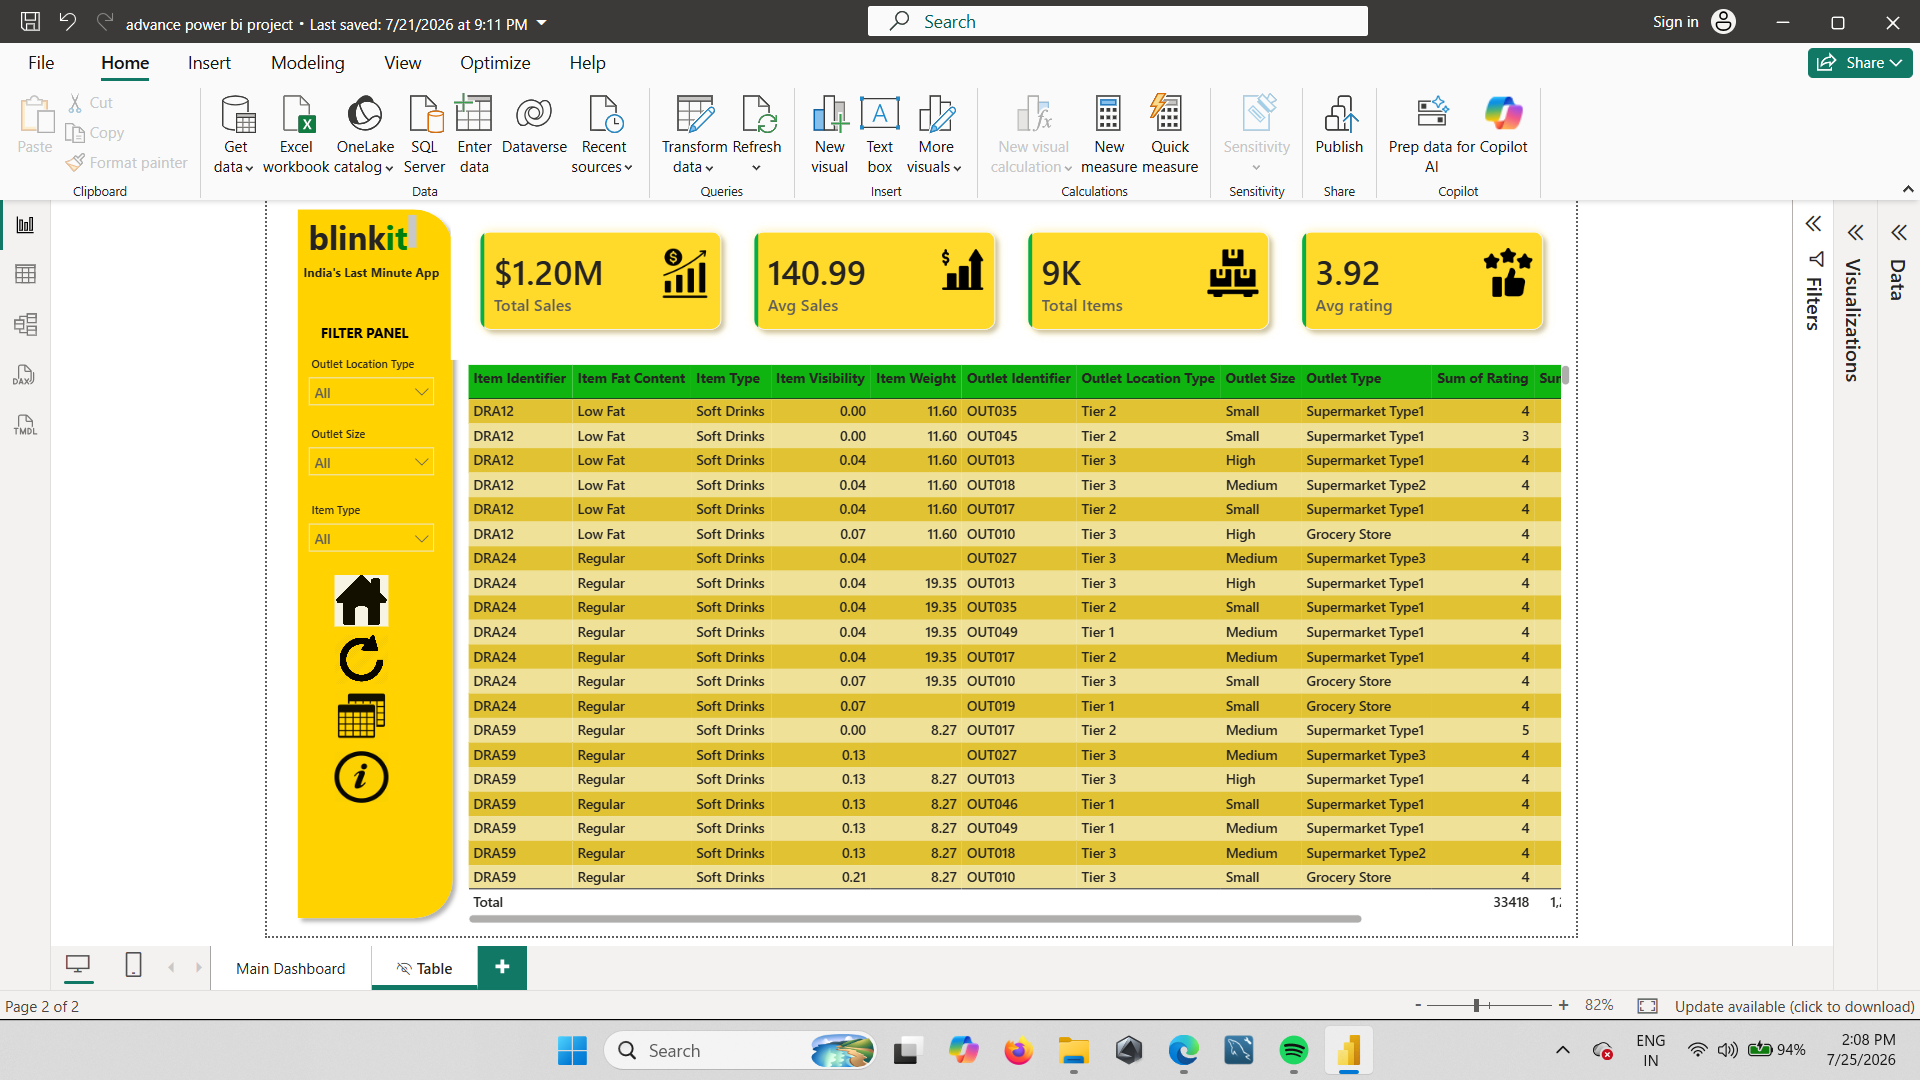

What the dashboard file says about the page in this screenshot:
{"tool":"powerbi","page":{"name":"Table","canvas":[1280,720],"ordinal":1},"visuals":[{"type":"shape","box":[20.8,0,170,711.7],"z":1},{"type":"textbox","box":[34.2,9.8,117.4,46.5],"z":2},{"type":"textbox","box":[30.6,56.3,143.1,28.1],"z":3},{"type":"slicer","fields":{"Values":["BlinkIT Grocery Data.Outlet Location Type"]},"box":[30.6,148,143.1,68.5],"z":4},{"type":"slicer","fields":{"Values":["BlinkIT Grocery Data.Outlet Size"]},"box":[30.6,216.4,143.1,68.5],"z":5},{"type":"slicer","fields":{"Values":["BlinkIT Grocery Data.Item Type"]},"box":[30.6,291,143.1,68.5],"z":6},{"type":"textbox","box":[34.2,116.2,122.3,31.8],"z":7},{"type":"actionButton","box":[66,366.8,52.6,50.1],"z":8},{"type":"actionButton","box":[66,425.5,52.6,47.7],"z":9},{"type":"actionButton","box":[66,479.4,52.6,50.1],"z":10},{"type":"actionButton","box":[66,539.3,52.6,50.1],"z":11},{"type":"cardVisual","fields":{"Data":["BlinkIT Grocery Data.Total Sales","BlinkIT Grocery Data.Avg Sales","BlinkIT Grocery Data.Total Items","BlinkIT Grocery Data.Avg rating"]},"box":[179.8,1.2,1100.5,155.3],"z":12},{"type":"tableEx","fields":{"Values":["BlinkIT Grocery Data.Item Identifier","BlinkIT Grocery Data.Item Fat Content","BlinkIT Grocery Data.Item Type","BlinkIT Grocery Data.Item Visibility","BlinkIT Grocery Data.Item Weight","BlinkIT Grocery Data.Outlet Identifier","BlinkIT Grocery Data.Outlet Location Type","BlinkIT Grocery Data.Outlet Size","BlinkIT Grocery Data.Outlet Type","Sum(BlinkIT Grocery Data.Rating)","Sum(BlinkIT Grocery Data.Sales)","BlinkIT Grocery Data.Outlet Establishment Year"]},"box":[191,156,1089,556],"z":13}]}

Visuals, with their boxes on the page's 1280x720 design canvas (x1, y1, x2, y2). These are canvas units, not pixel positions in the 1920x1080 screenshot, which may show the page scaled, cropped or inside an application window:
shape: 21:0:191:712
textbox: 34:10:152:56
textbox: 31:56:174:84
slicer - BlinkIT Grocery Data.Outlet Location Type: 31:148:174:216
slicer - BlinkIT Grocery Data.Outlet Size: 31:216:174:285
slicer - BlinkIT Grocery Data.Item Type: 31:291:174:360
textbox: 34:116:156:148
actionButton: 66:367:119:417
actionButton: 66:426:119:473
actionButton: 66:479:119:530
actionButton: 66:539:119:589
cardVisual - BlinkIT Grocery Data.Total Sales x BlinkIT Grocery Data.Avg Sales: 180:1:1280:156
tableEx - BlinkIT Grocery Data.Item Identifier x BlinkIT Grocery Data.Item Fat Content: 191:156:1280:712
